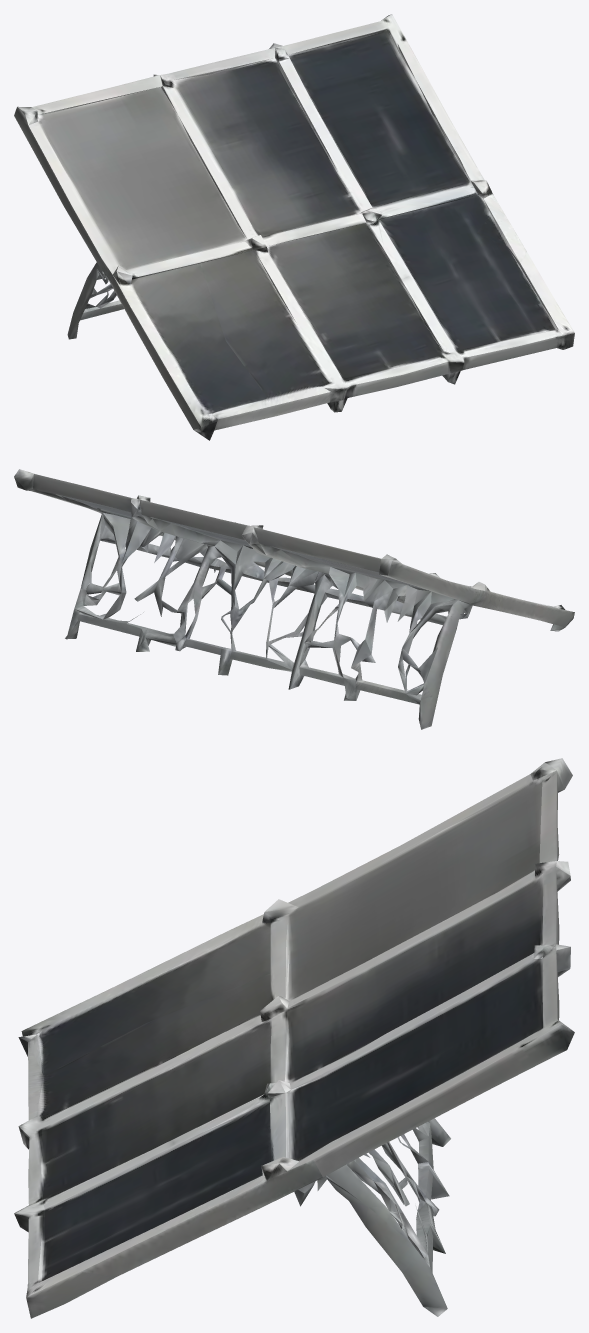
The model's file is solarPanelWing.glb.
3 renders of one model, top to bottom at view 1: azimuth 30°, elevation 25°; view 2: azimuth 150°, elevation 25°; view 3: azimuth 270°, elevation 25°, orthographic. The views are drawn at different scales.
Parts seen in each view (by area): view 1: model; view 2: model; view 3: model.
Boxes of the visible parts, x1,y1,x2,y2 form: model: (14,14,574,440); model: (14,469,574,729); model: (14,758,574,1318).
Bounding box in the file's own units: 1.87 × 1.02 × 1.65.
Materials: 1 (1 with a texture image).
